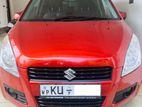car: (1, 0, 142, 107)
